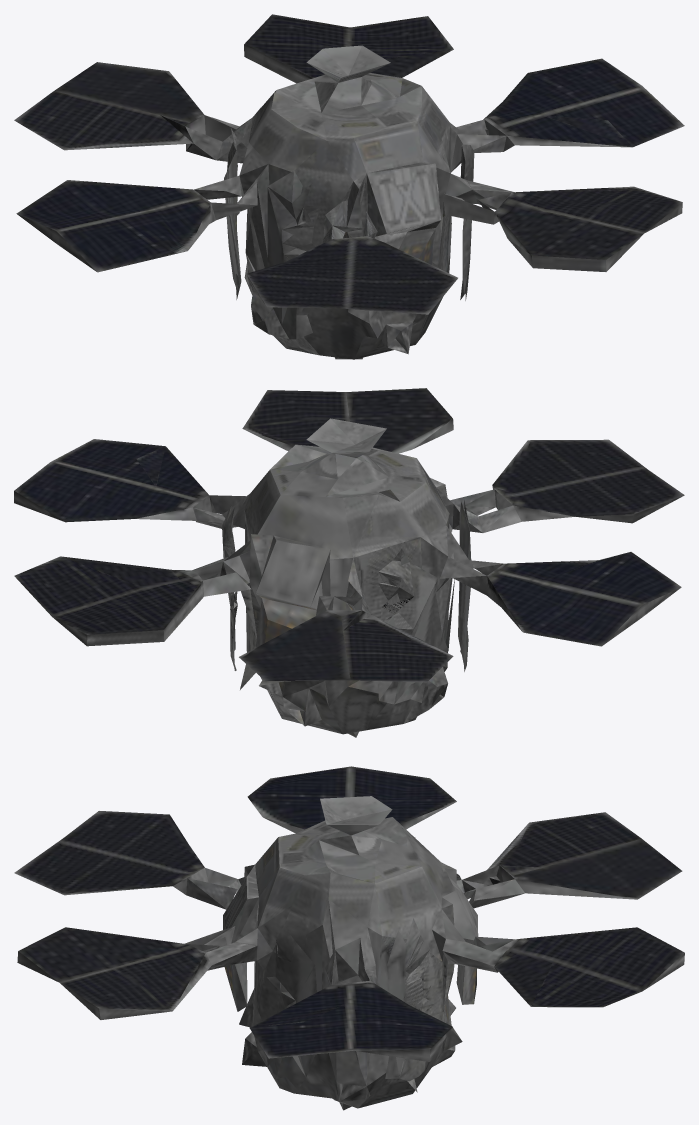
File: low poly dyson swarm.glb
3 renders of one model, top to bottom at view 1: azimuth 30°, elevation 25°; view 2: azimuth 150°, elevation 25°; view 3: azimuth 270°, elevation 25°, orthographic.
Parts seen in each view (by area): view 1: output_unwrapped; view 2: output_unwrapped; view 3: output_unwrapped.
Boxes of the visible parts, x1,y1,x2,y2 form: output_unwrapped: [14, 14, 684, 359]; output_unwrapped: [14, 388, 684, 737]; output_unwrapped: [14, 766, 684, 1110].
Size of the model in its own units: 1.89 by 0.9155 by 1.88.
Materials: 1 (1 with a texture image).
